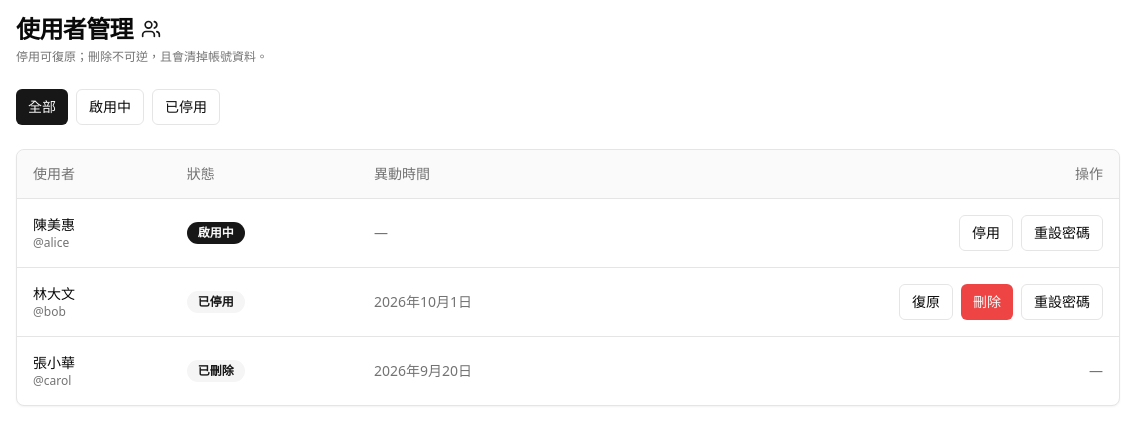
Test case: UsersPage › 篩選已停用只留下已停用者
expect the text "陳美惠" is shown: met, box [33,214,75,234]
Click the button "已停用": x=186, y=107 [152,89,220,125]
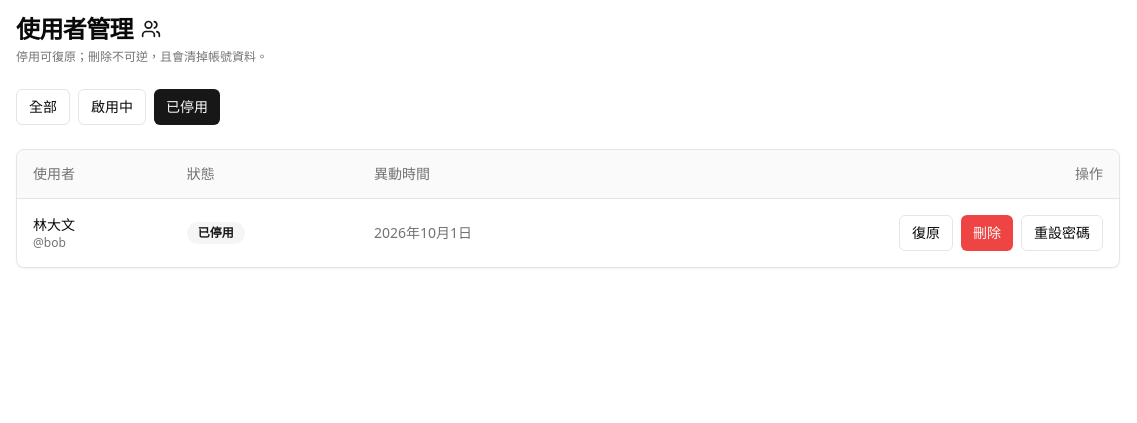
expect the text "林大文" is shown: met, box [33,214,75,234]
expect the text "陳美惠" is gone: met
